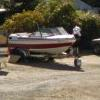Boat: (4, 22, 88, 73)
